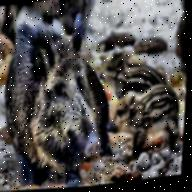boar: (0, 5, 123, 192), (99, 77, 187, 164), (102, 42, 165, 97)
